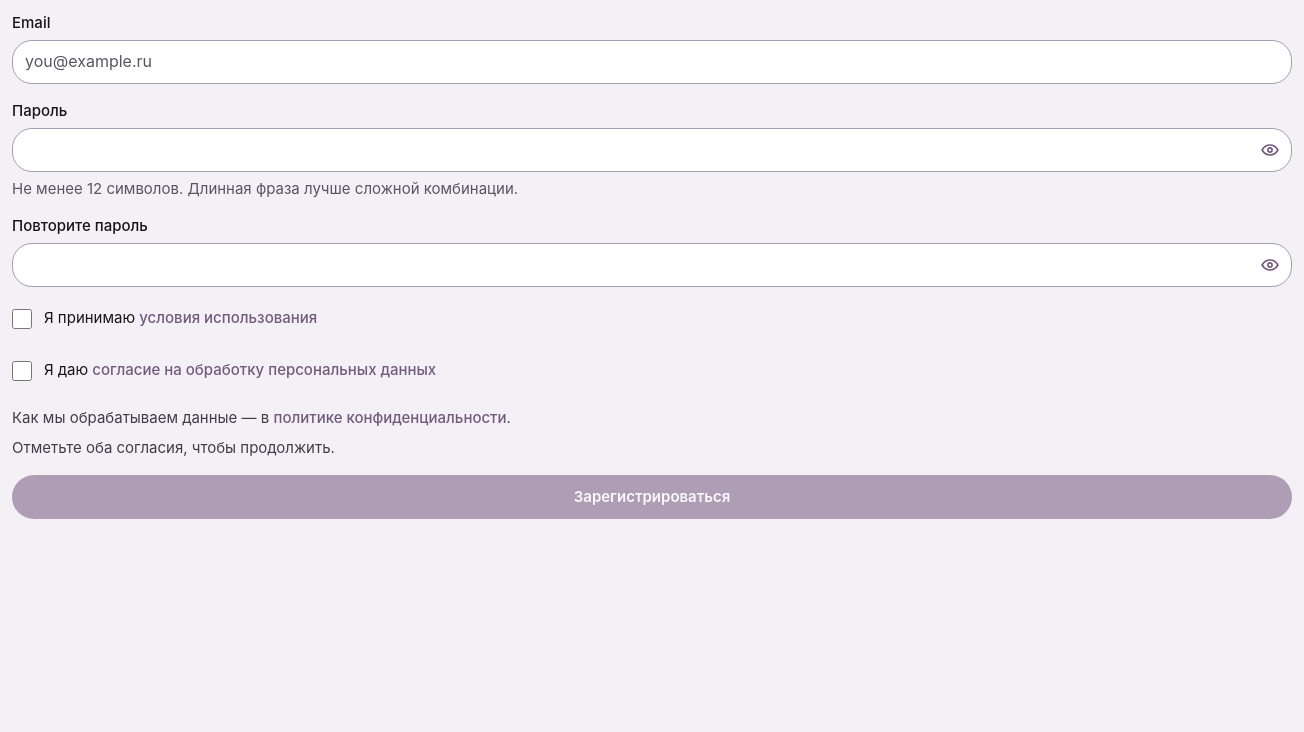
Test: RegisterForm › words an invalid email and a short password in Russian
This screenshot has width=1304, height=732.
In the field labelled "Email": (652, 62) x1=12 y1=40 x2=1292 y2=84, type "not-an-email"
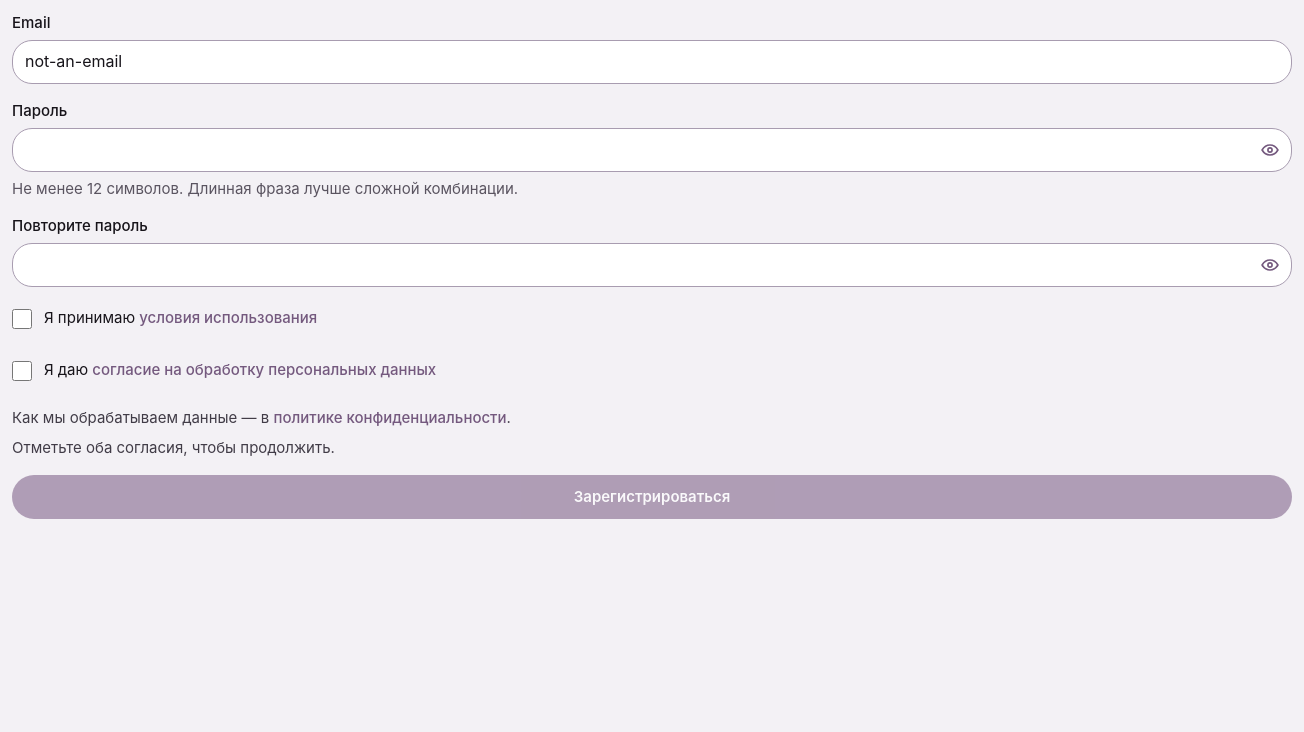
In the password field labelled "Пароль": (652, 150) x1=12 y1=128 x2=1292 y2=172, type "short"
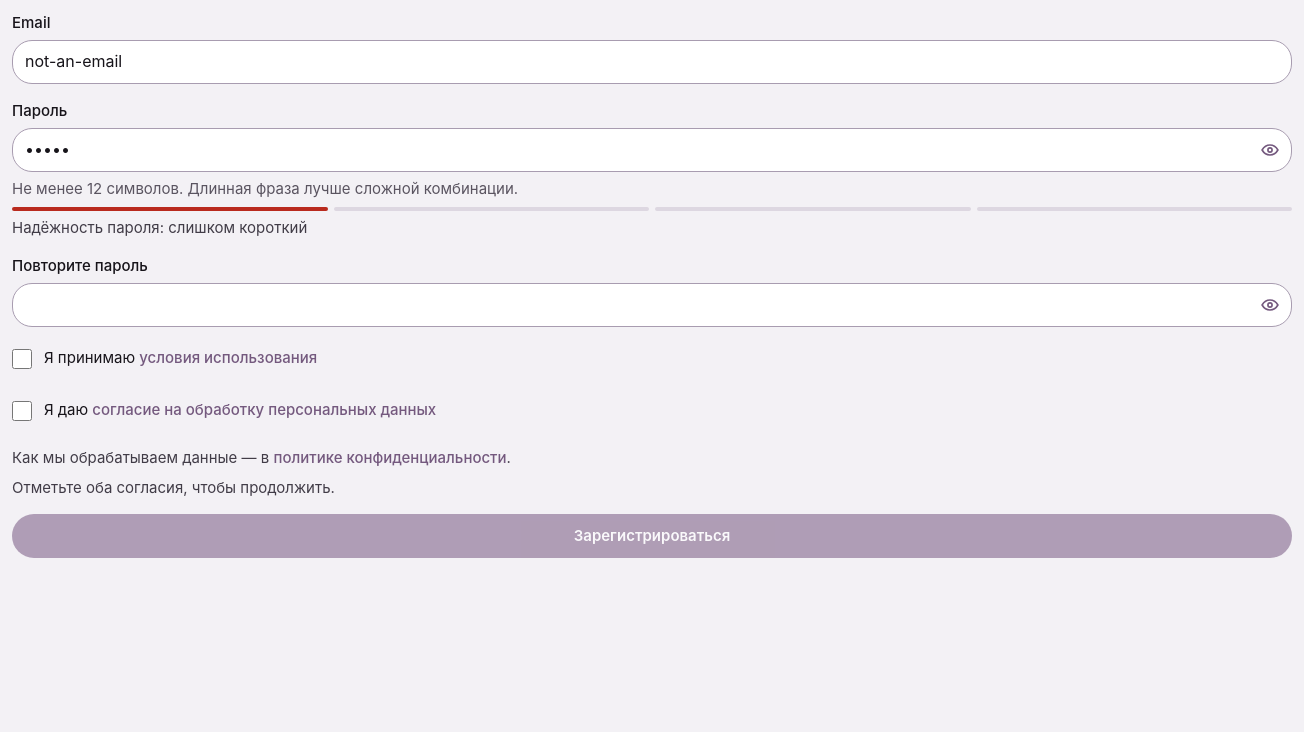
In the password field labelled "Повторите пароль": (652, 305) x1=12 y1=283 x2=1292 y2=327, type "short"
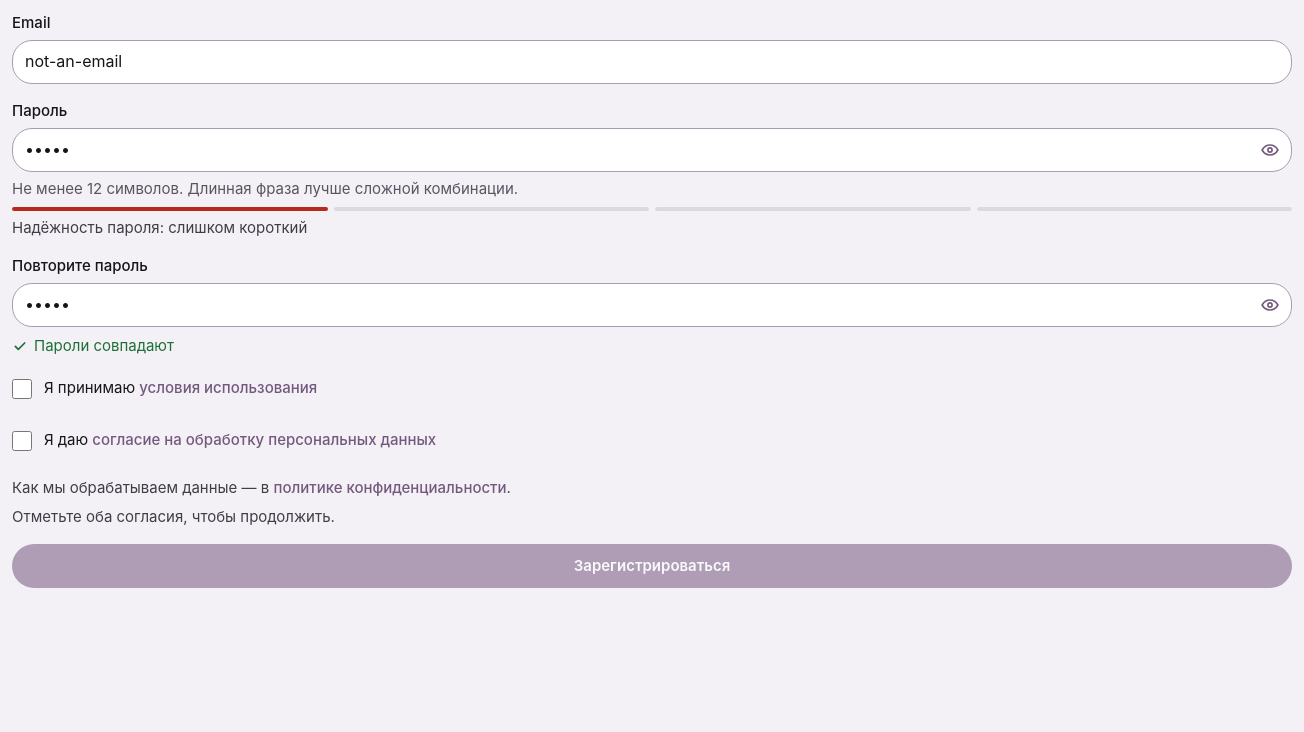
Click the checkbox labelled "Я принимаю условия использования": (22, 388) x1=12 y1=378 x2=32 y2=398
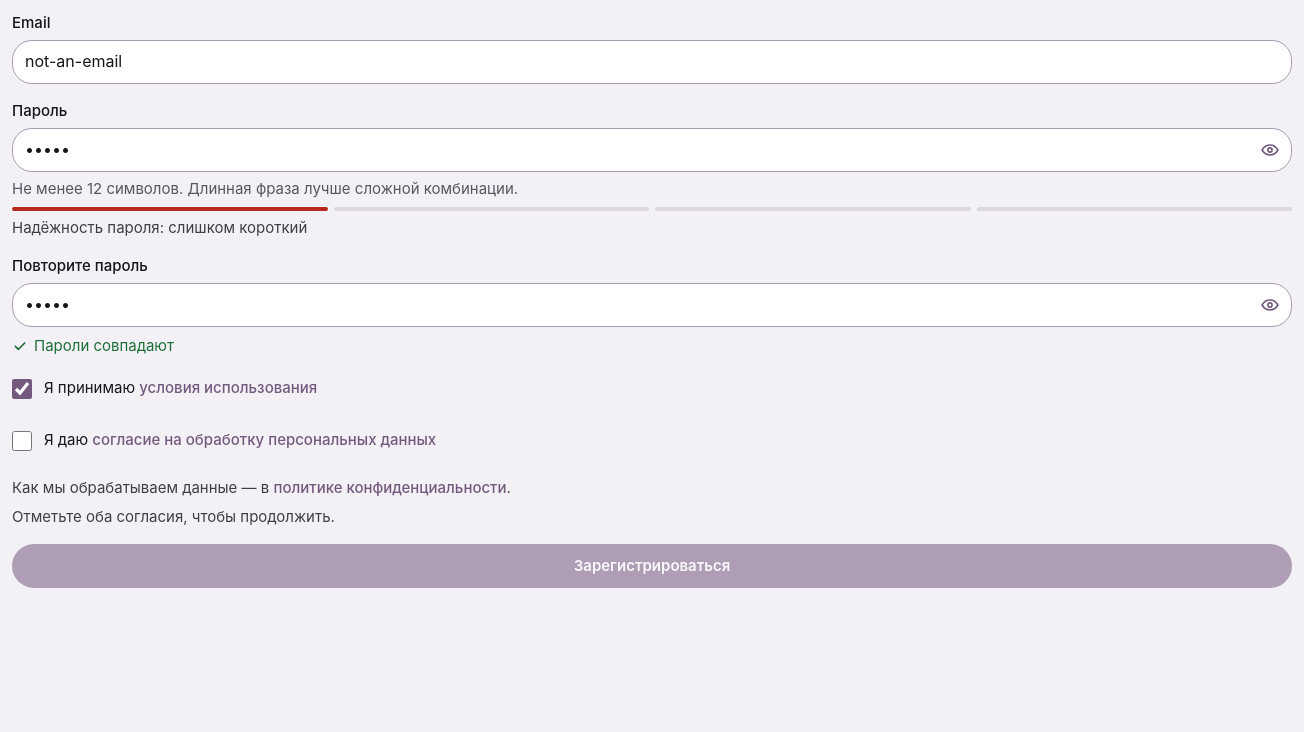
Click the checkbox labelled "Я даю согласие на обработку персональных данных": (22, 440) x1=12 y1=430 x2=32 y2=450
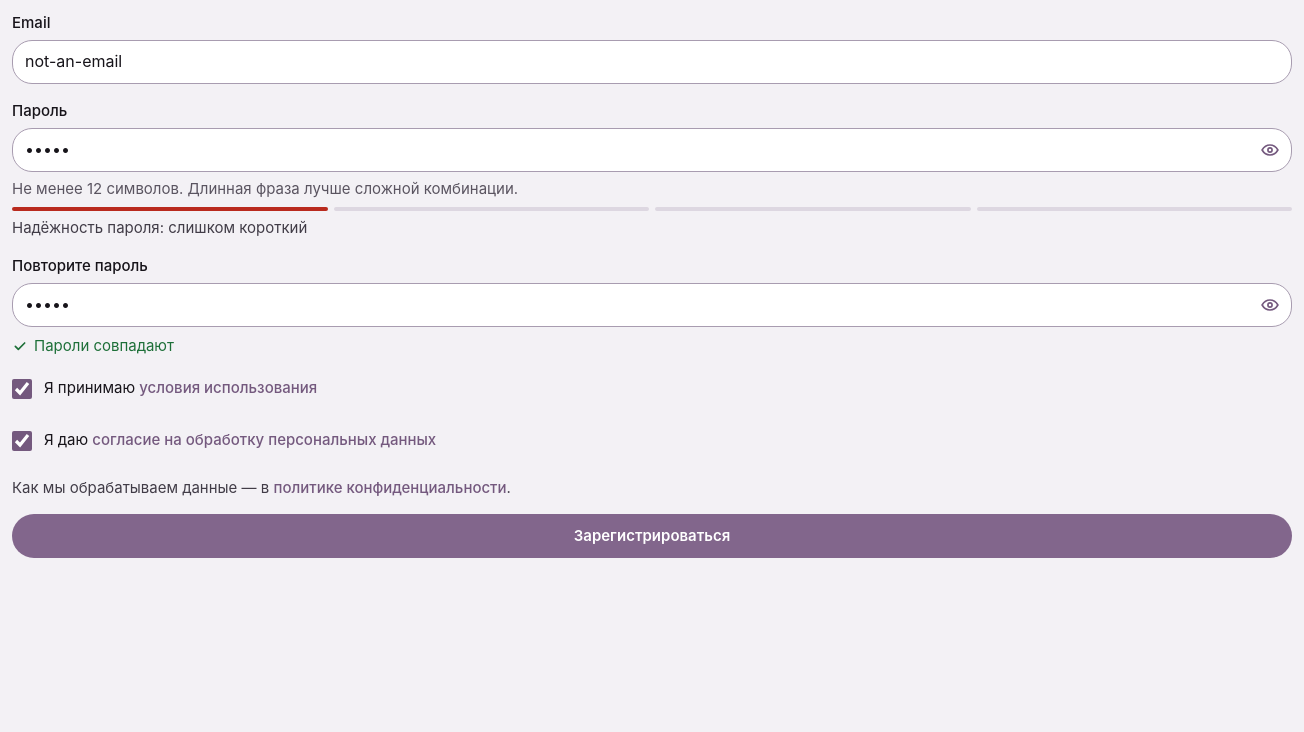
Click the button "Зарегистрироваться": (652, 536) x1=12 y1=514 x2=1292 y2=558
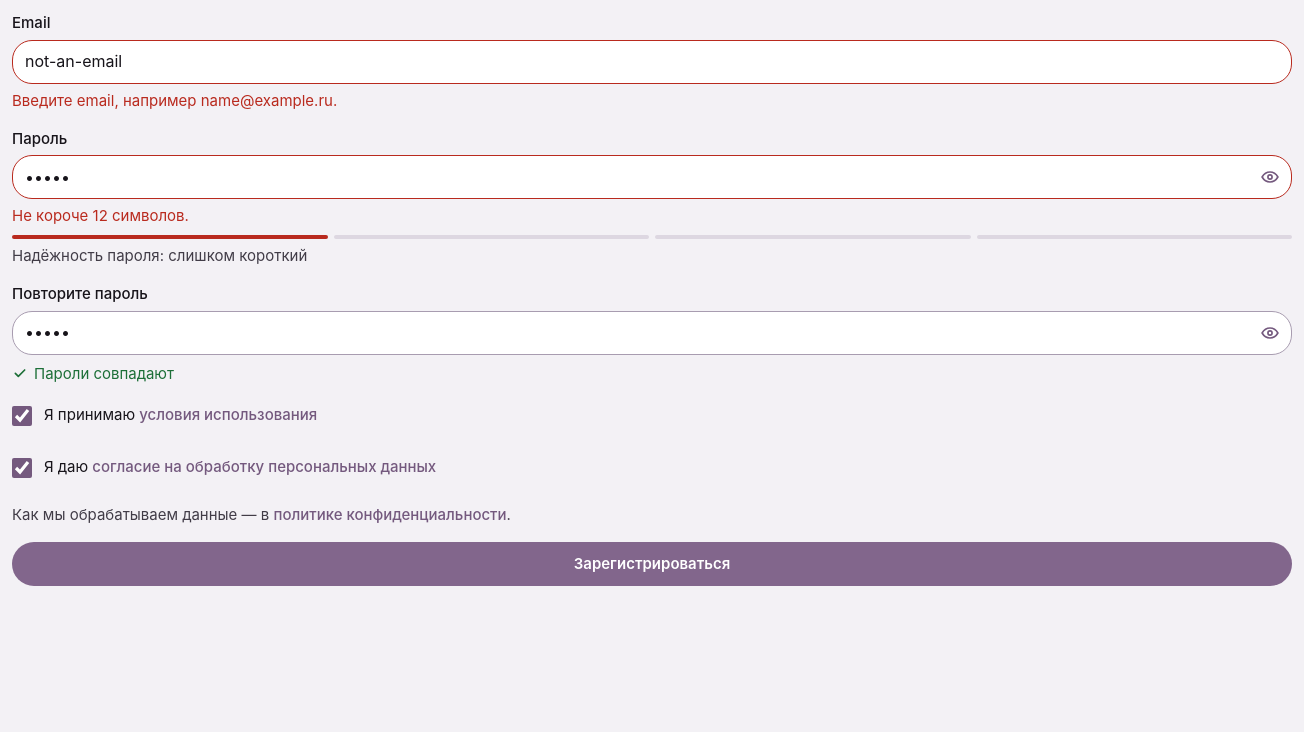
Check: the text "Введите email, например name@example.ru." is shown, box x1=12 y1=91 x2=337 y2=110
Check: the text "Не короче 12 символов." is shown, box x1=12 y1=206 x2=189 y2=225
